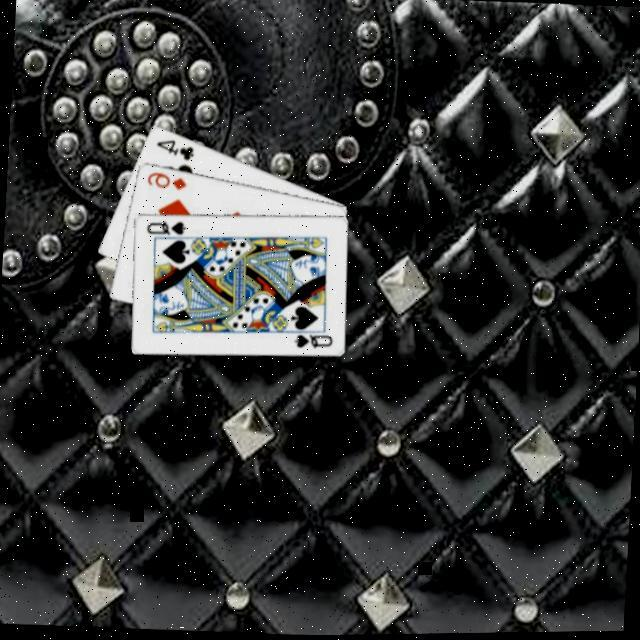4C: (153, 134, 200, 164)
6D: (145, 166, 192, 194)
QS: (144, 215, 192, 239), (292, 330, 337, 353)
